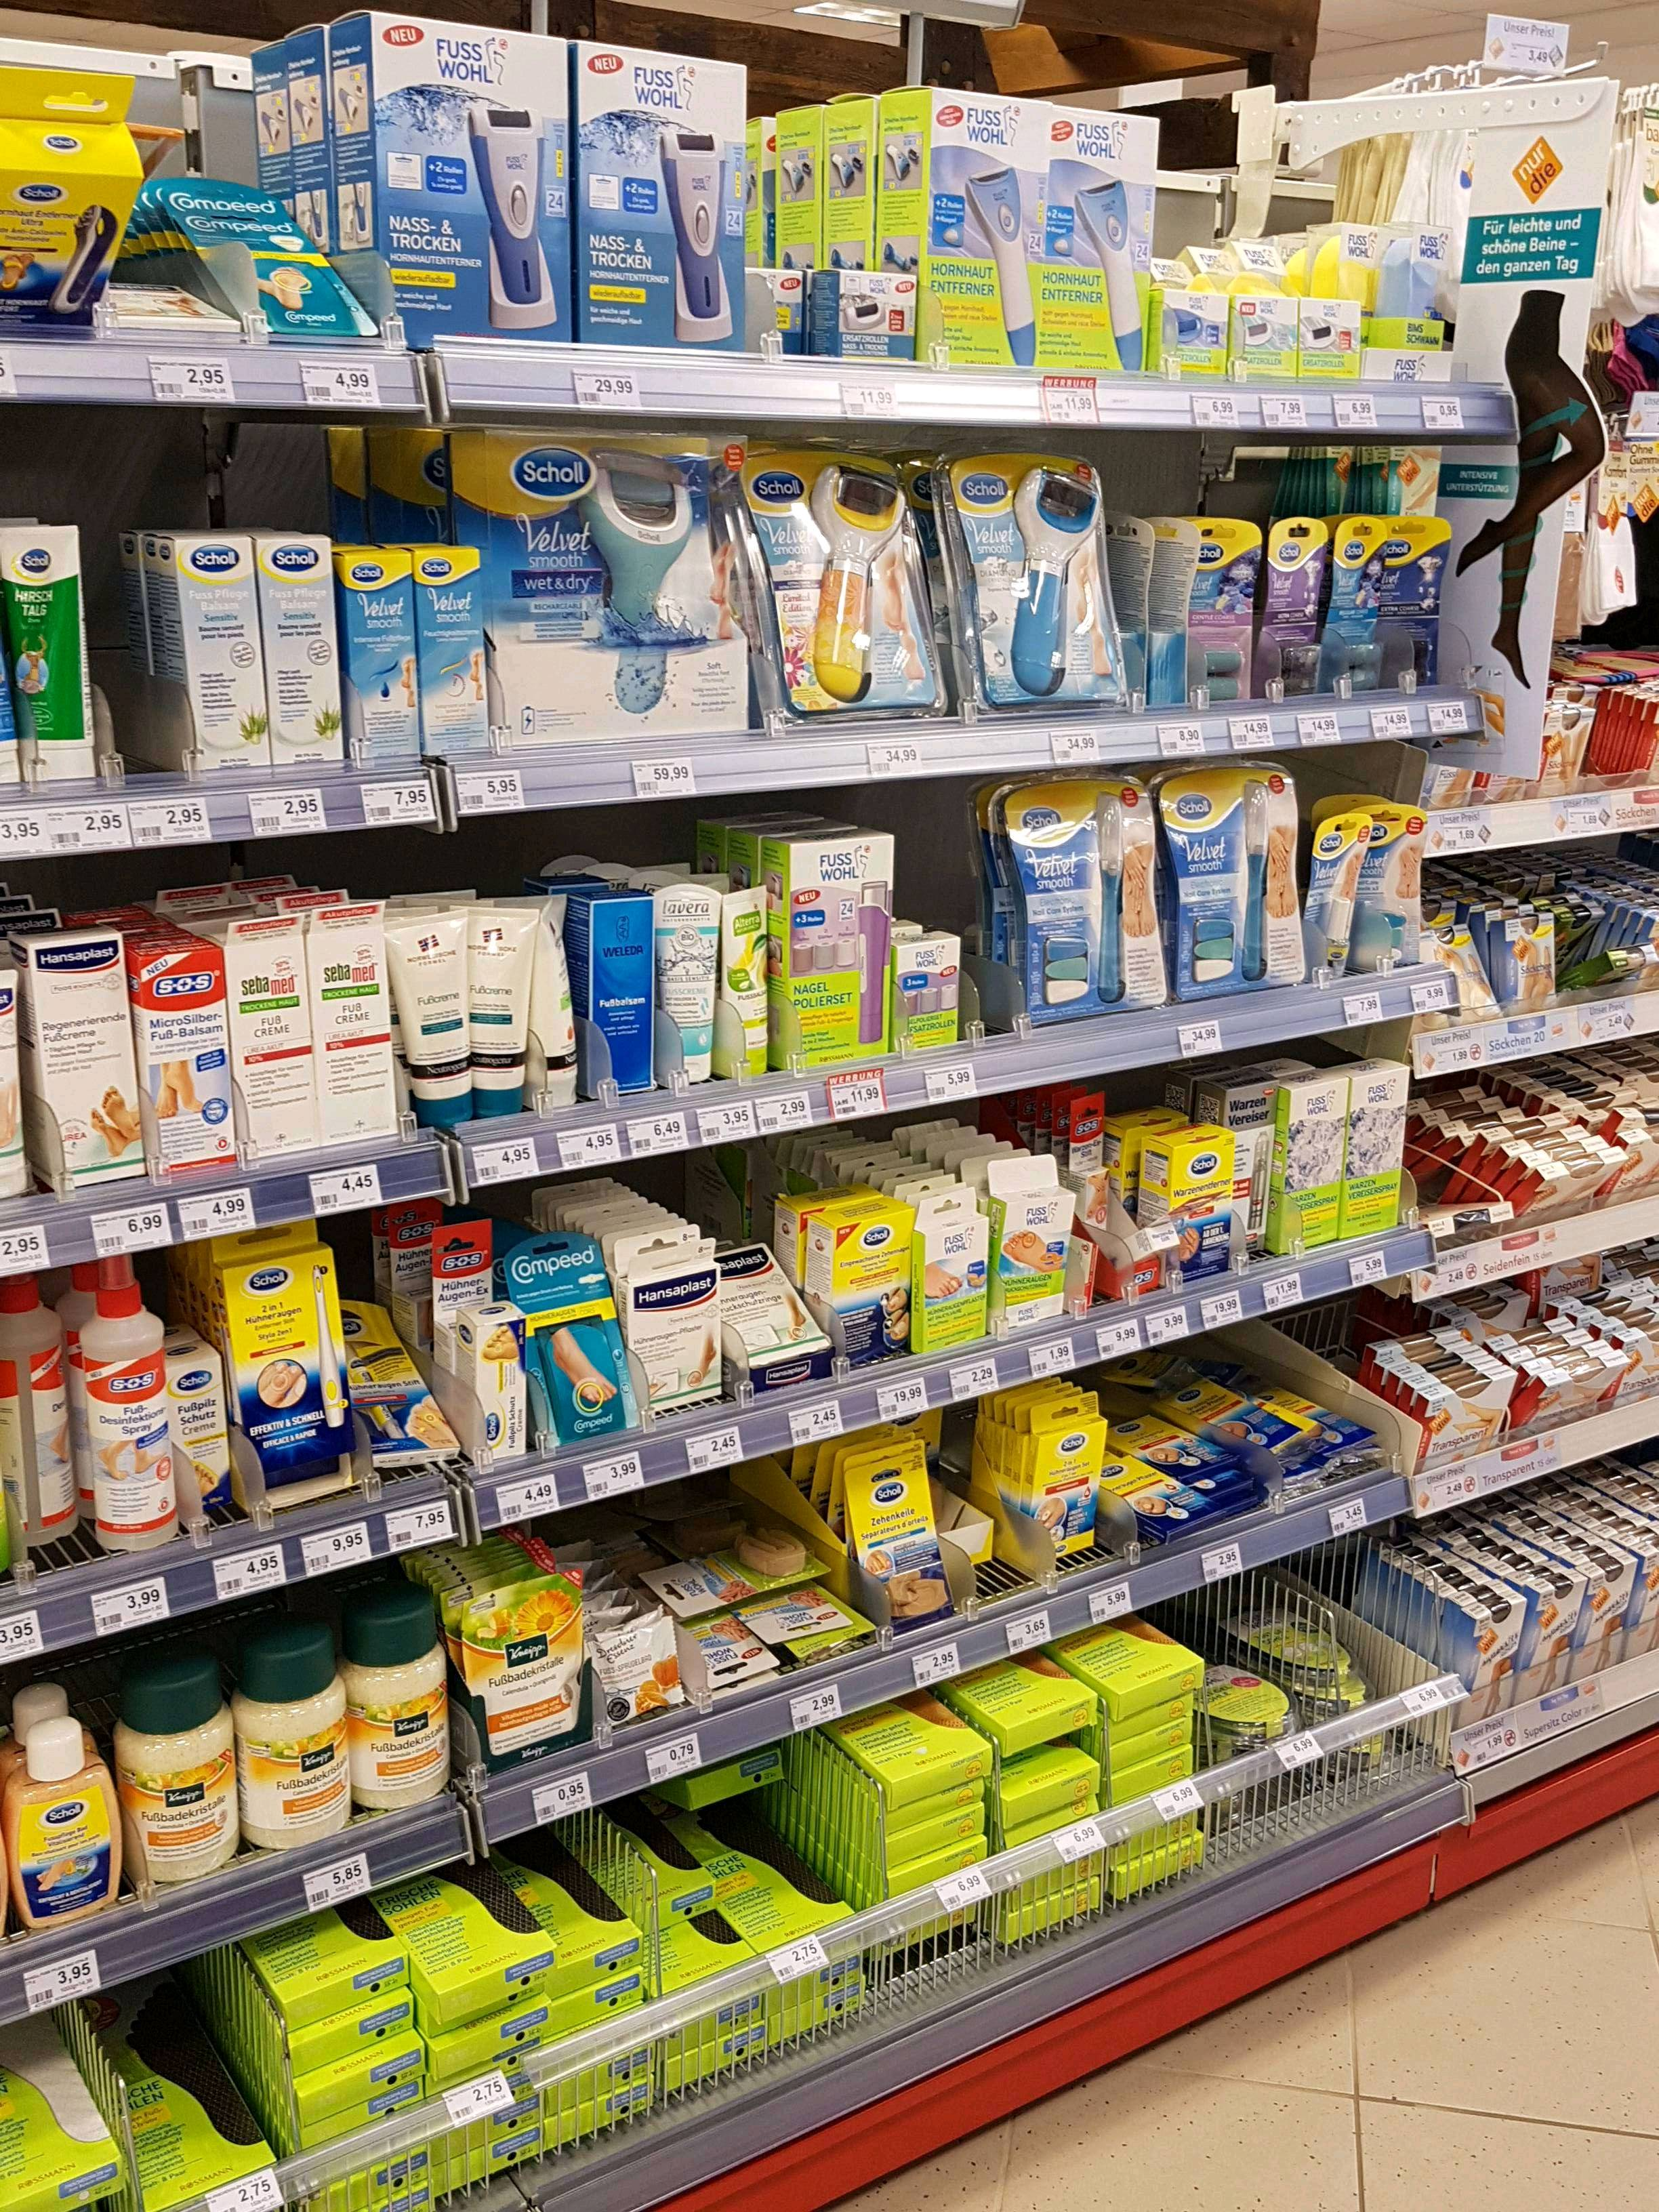Out-of-stock: (91, 536, 179, 792)
